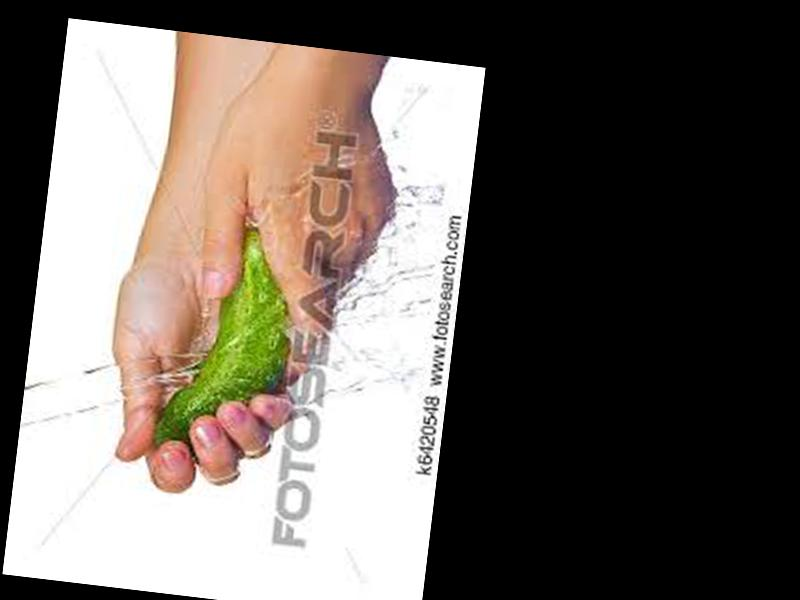Cucumber: (152, 212, 308, 463)
